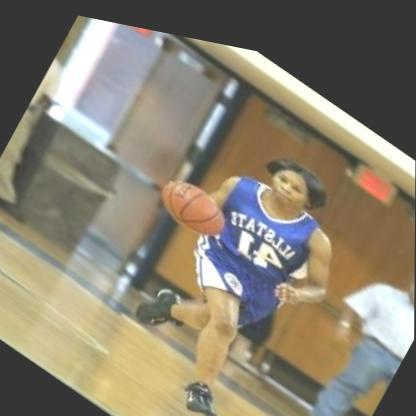basketball: (148, 153, 236, 247)
